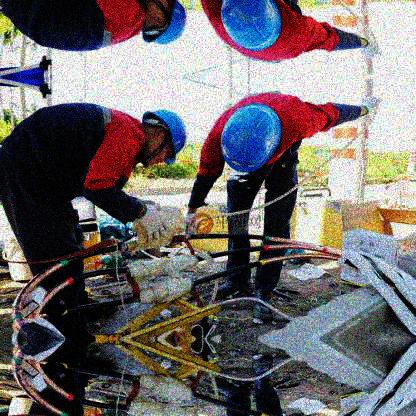helmet: (139, 109, 188, 166), (137, 1, 188, 46)
